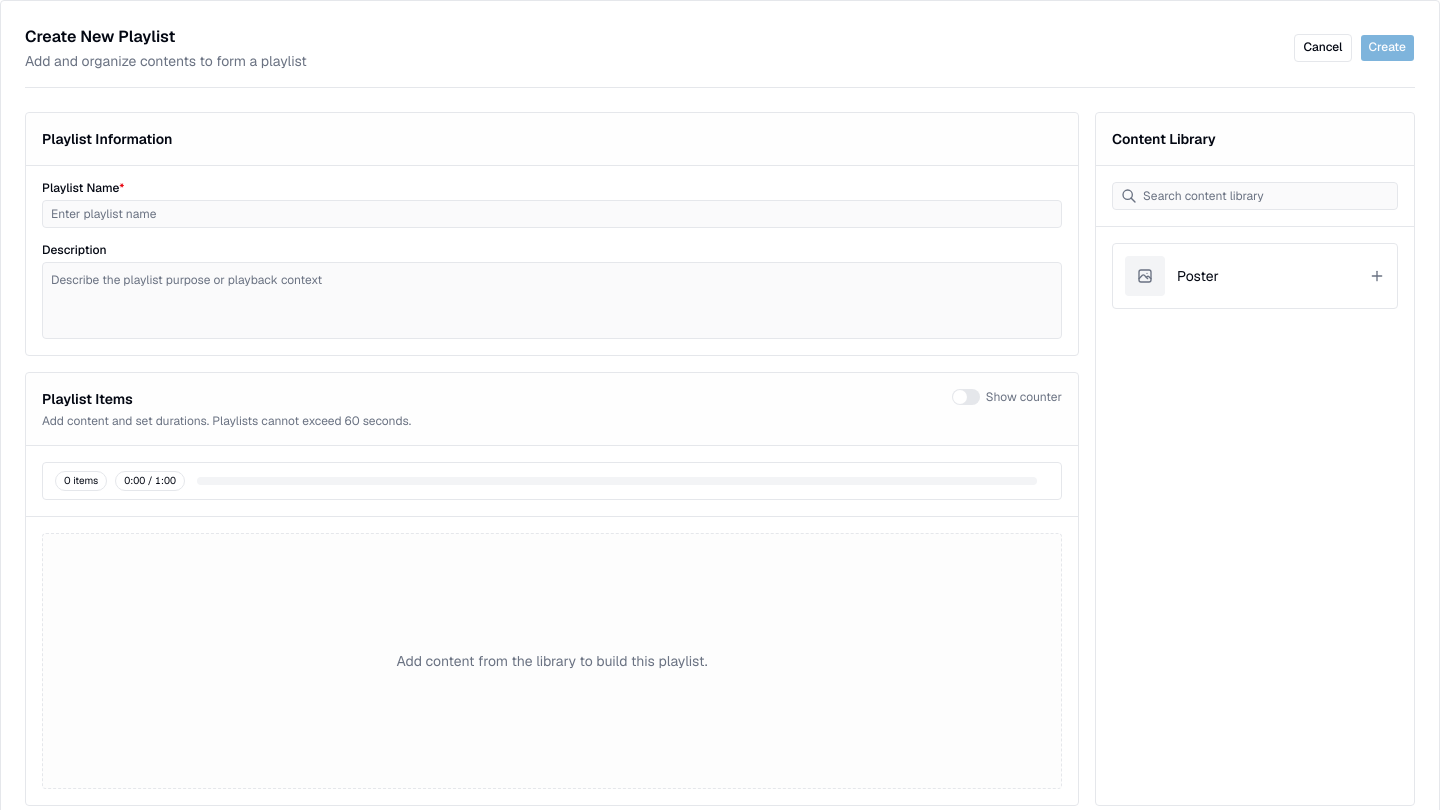
Scenario: CreatePlaylistForm › adds and removes content from the playlist
Click the button "Poster" at point(1145, 276), box x1=1112 y1=243 x2=1398 y2=309
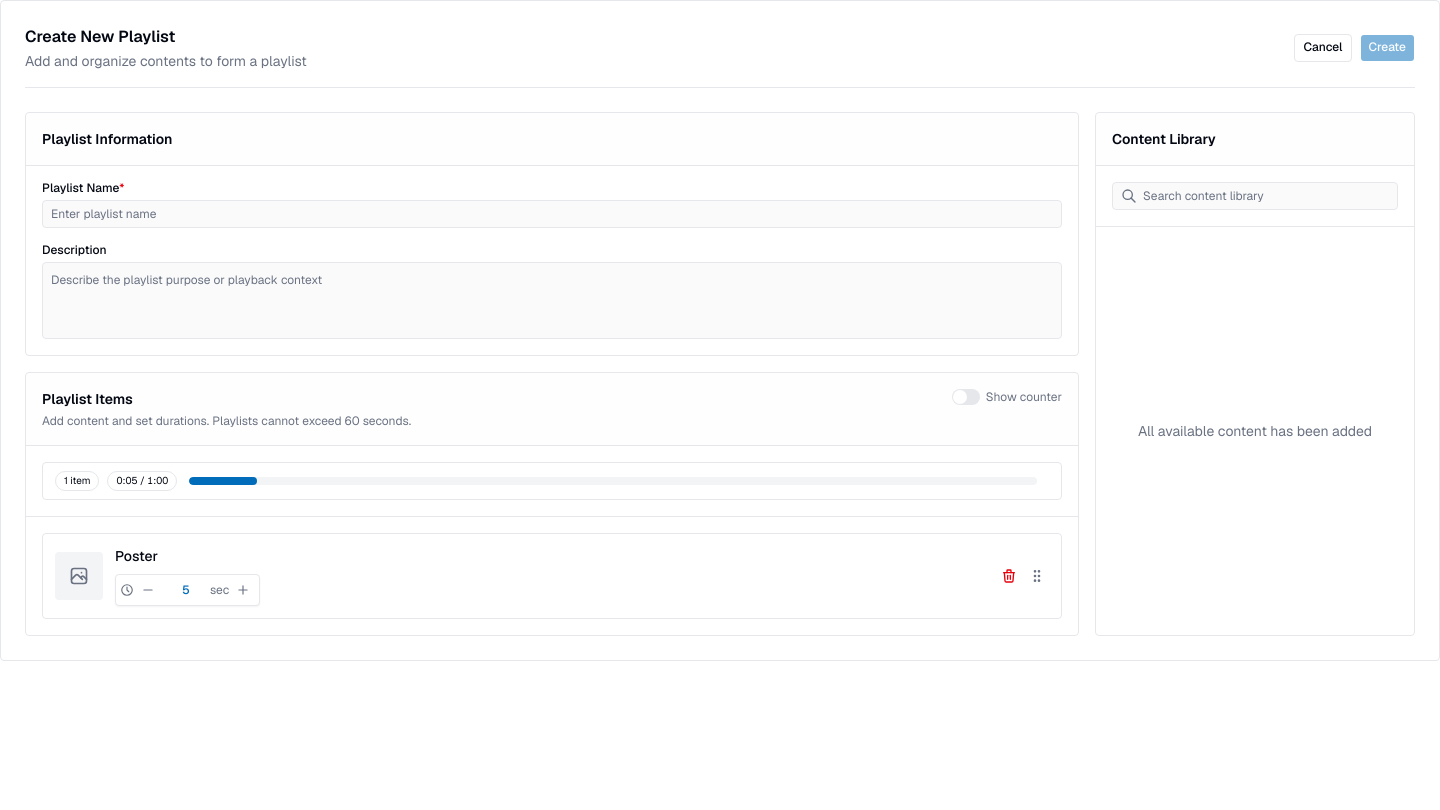
Expected: the text "Poster" is shown, x1=115 y1=546 x2=158 y2=564
Click the button named "Remove Poster from playlist" at point(1009, 576), box x1=997 y1=564 x2=1021 y2=588
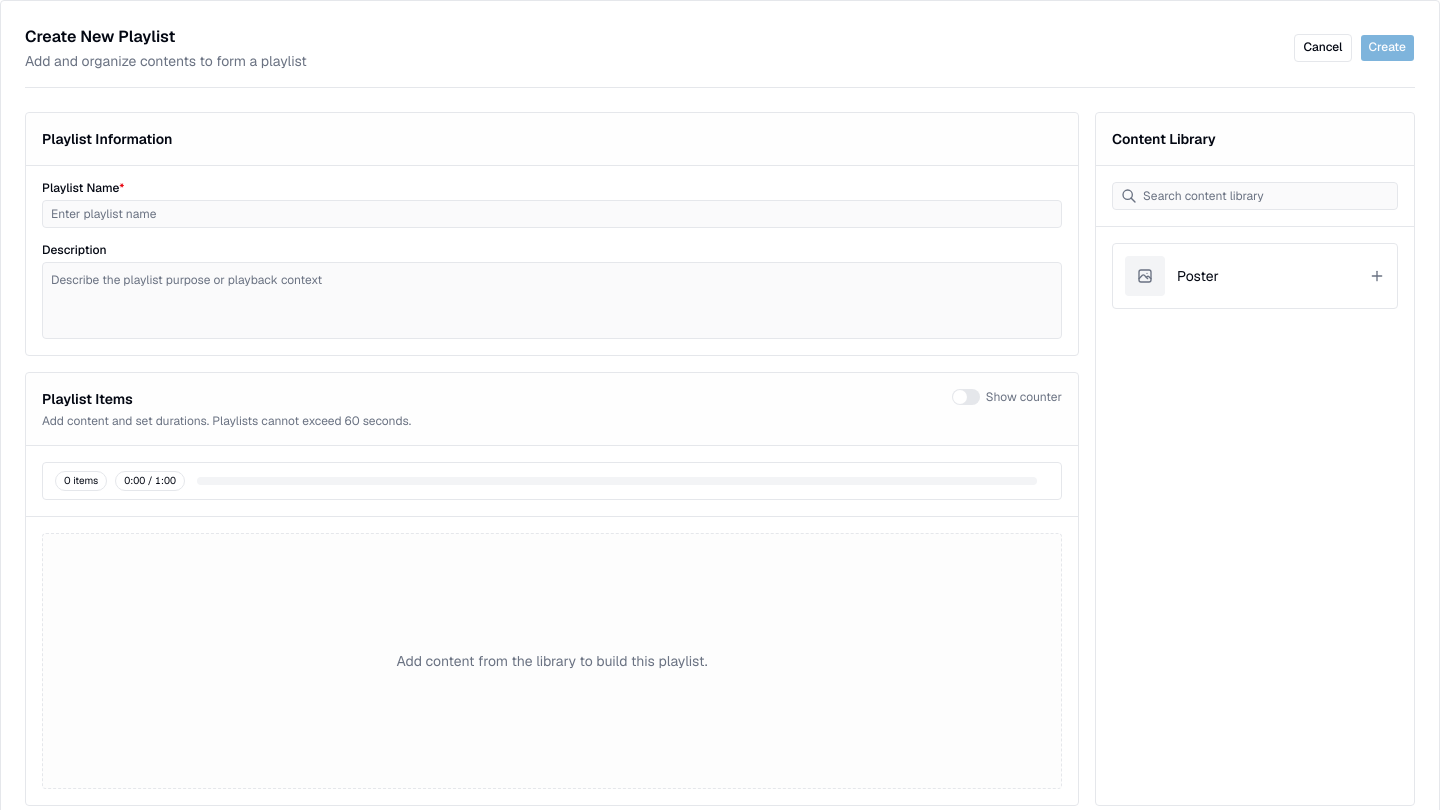
Expected: the button "Poster" is shown, x1=1112 y1=243 x2=1398 y2=309
Now the text "Add content from the library to build this playlist." is shown, box x1=396 y1=650 x2=708 y2=670
